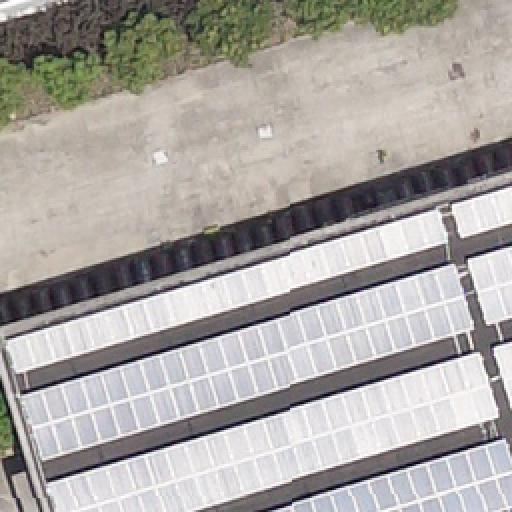solar-panel: (18, 263, 474, 465), (7, 210, 449, 378), (43, 352, 501, 512), (268, 440, 512, 512), (465, 246, 511, 326), (449, 186, 511, 242), (489, 340, 511, 412)
